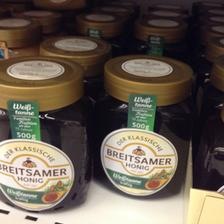Honig: (92, 51, 196, 199), (0, 55, 92, 216)
